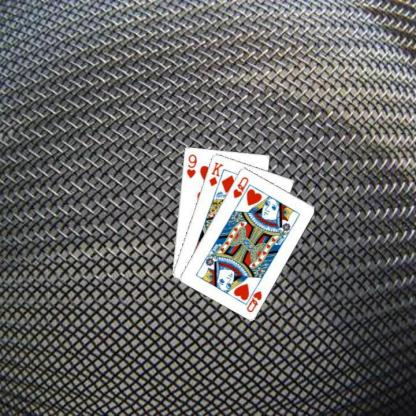9H: (184, 151, 198, 179)
KD: (206, 160, 224, 187)
QH: (242, 283, 263, 313), (230, 174, 249, 199)
